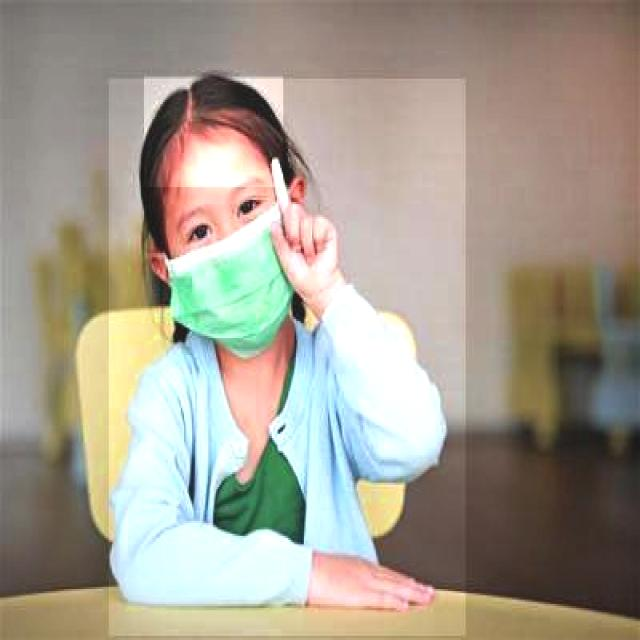face_mask: (166, 172, 288, 344)
hand_noglove: (266, 148, 346, 292), (309, 544, 438, 619)
head_nohelmet: (142, 77, 284, 189)
person: (107, 79, 466, 638)
